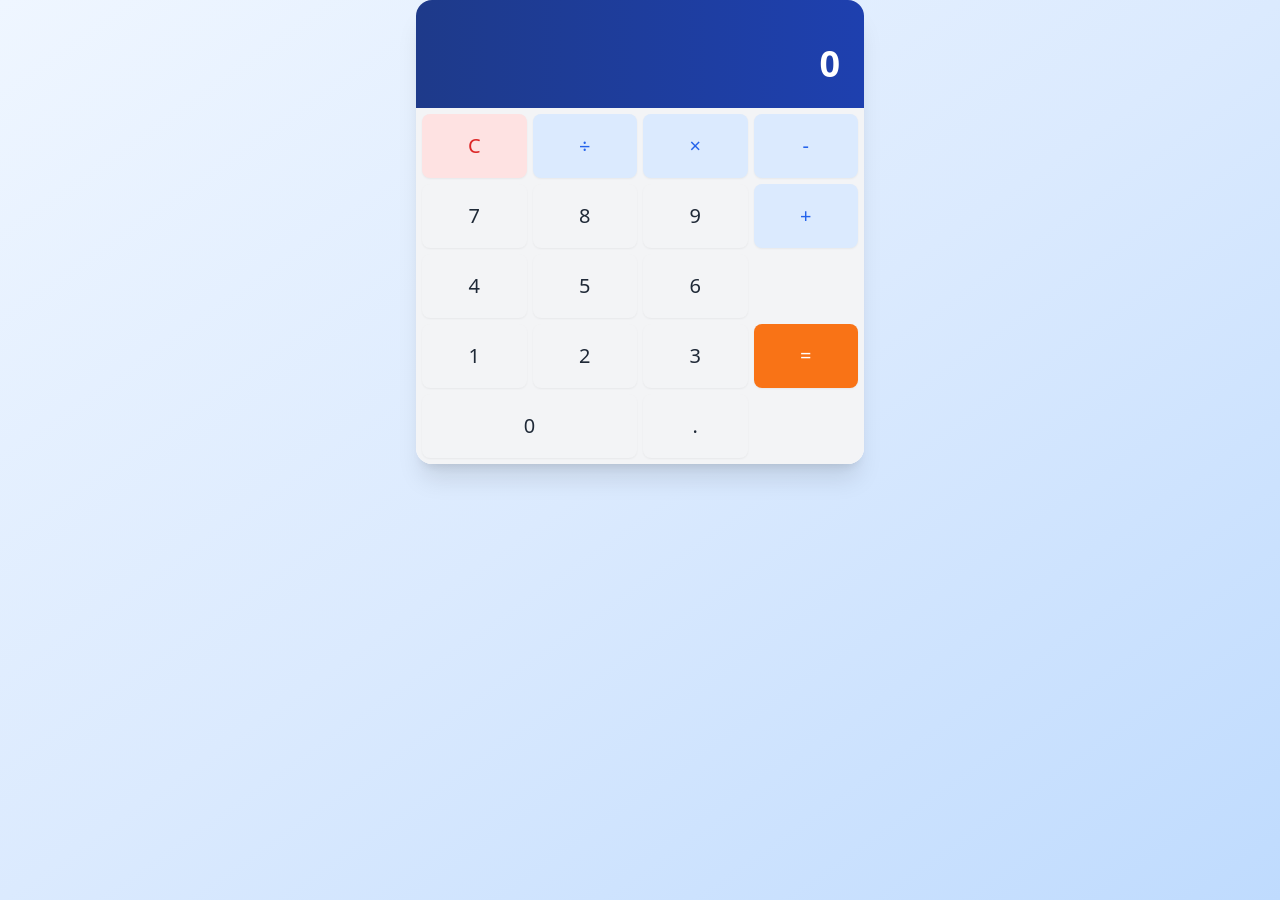
Test: Calculator Component › should update display when clicking digits
This screenshot has width=1280, height=900.
Click the button "1". click: (474, 356)
box: x1=422 y1=324 x2=526 y2=388
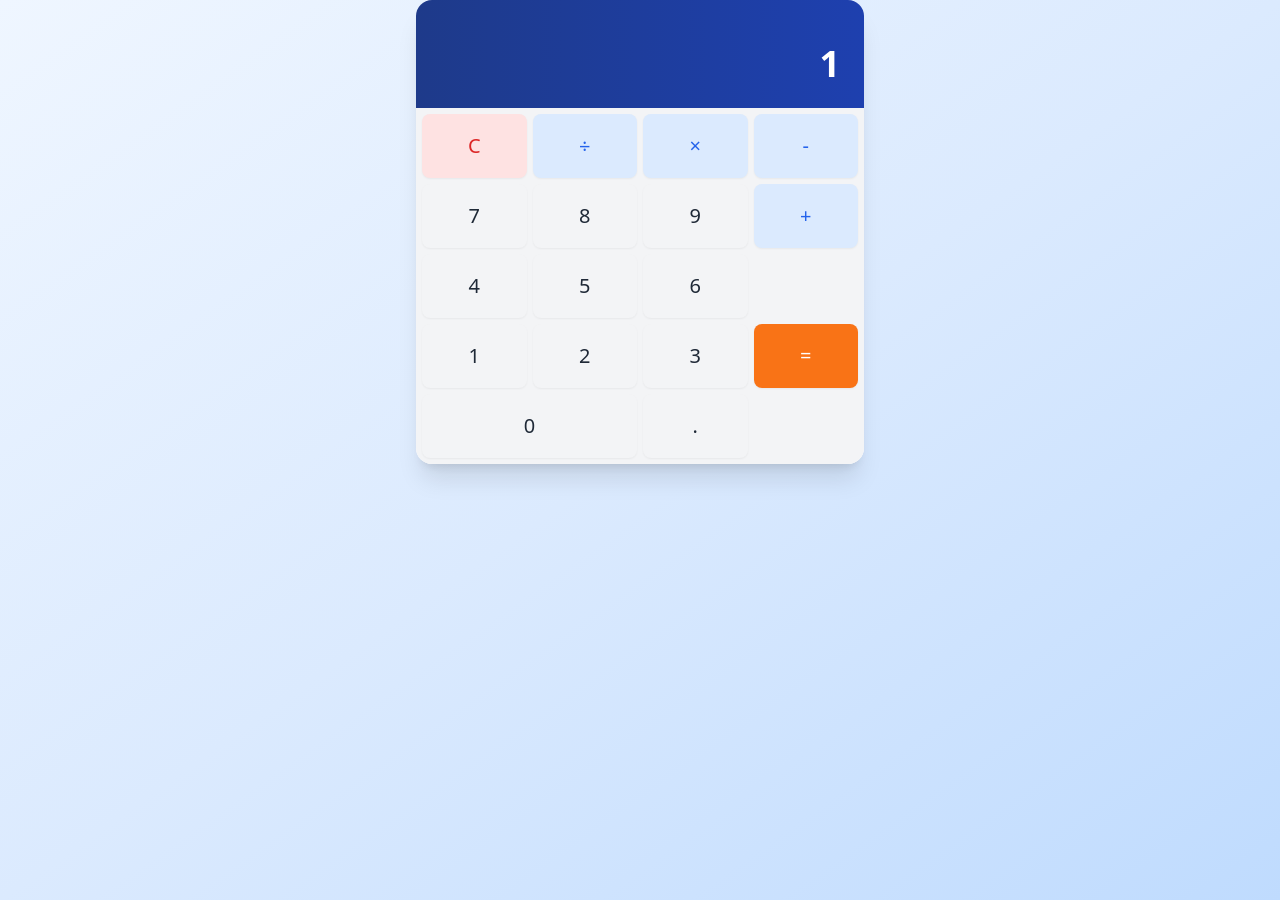
Click the button "2". click: (585, 356)
box: x1=532 y1=324 x2=637 y2=388
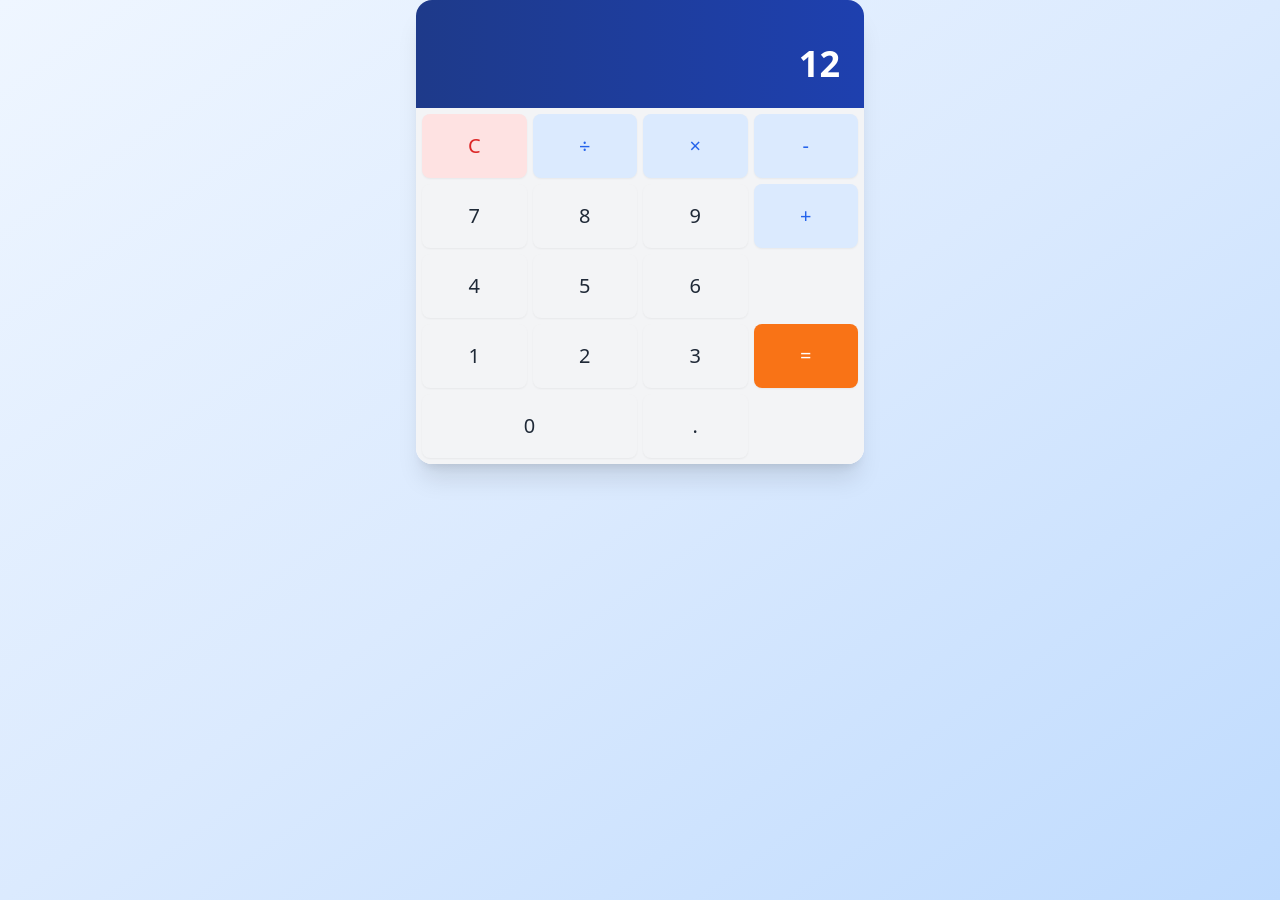
Click the button "3". click: (695, 356)
box: x1=643 y1=324 x2=748 y2=388
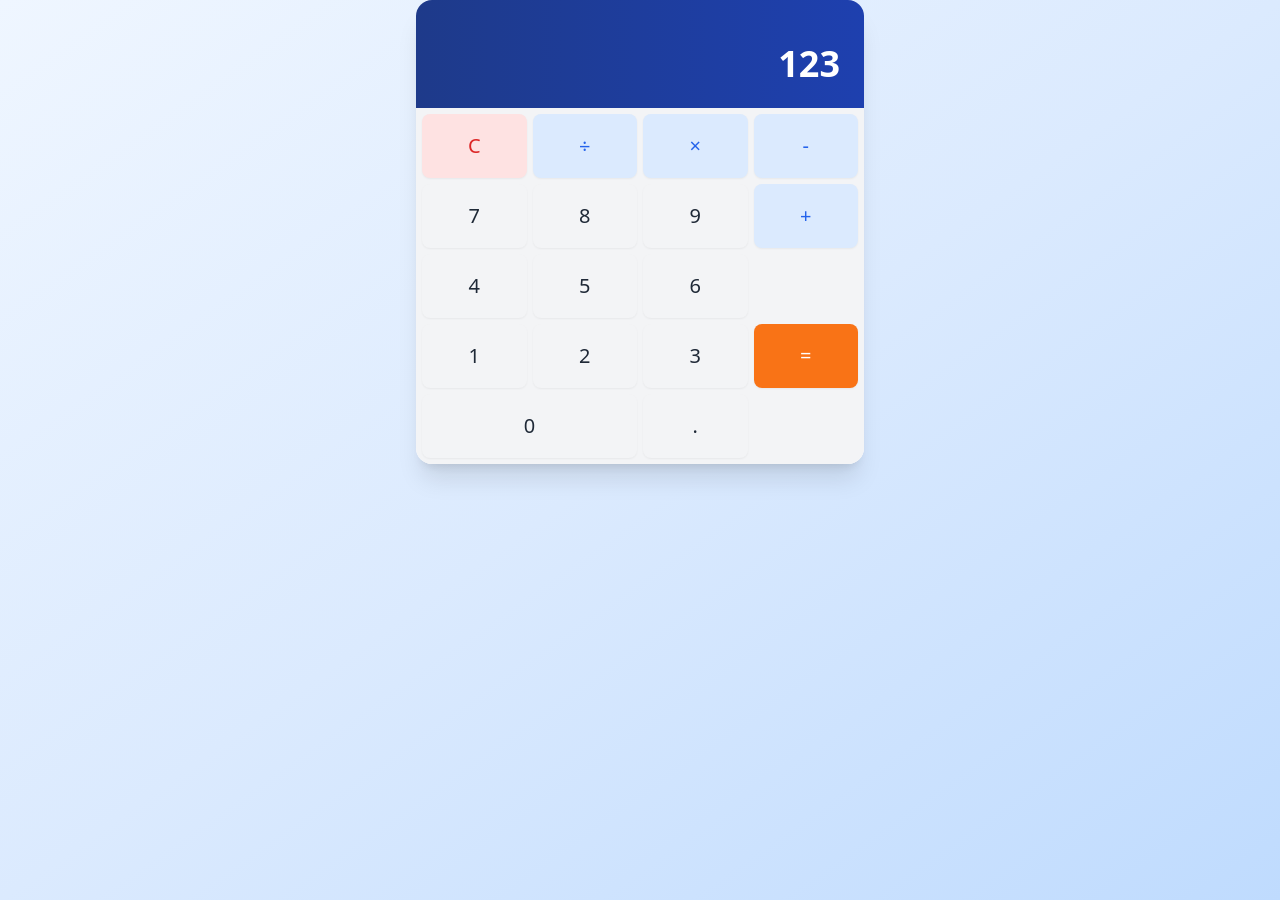
Now the field with test id "calculator-display" reads "123", box x1=778 y1=39 x2=840 y2=88
